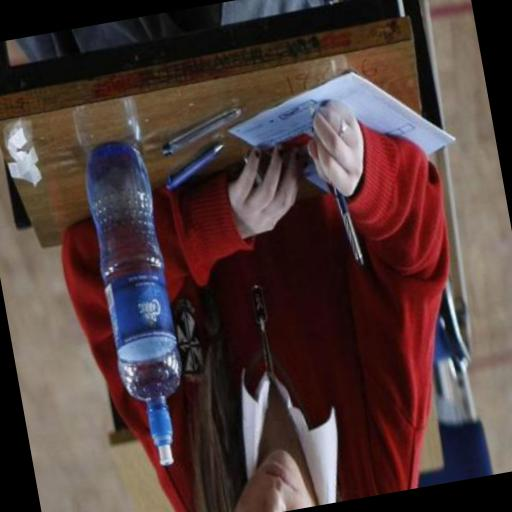Coca: (72, 124, 204, 480)
